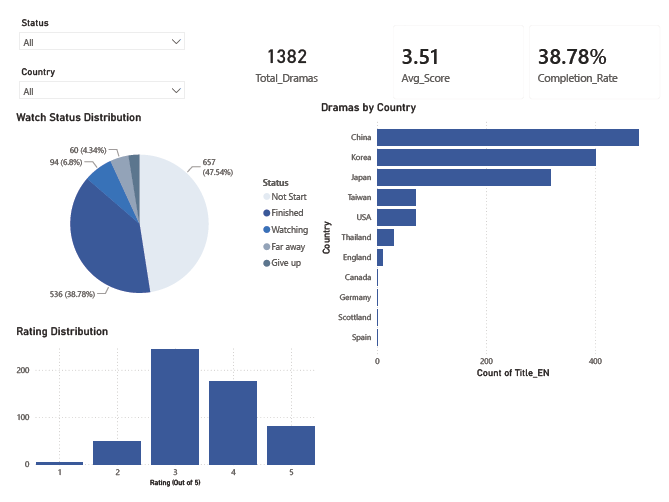

What the dashboard file says about the page in this screenshot:
{"tool":"powerbi","page":{"name":"Overview Dashboard","canvas":[1280,720],"ordinal":0},"visuals":[{"type":"cardVisual","fields":{"Data":["Drama.Avg_Score","Drama.Completion_Rate"]},"box":[557.8,0,437.7,145.9],"z":0},{"type":"card","fields":{"Values":["Drama.Total_Dramas"]},"box":[269.7,0,288.1,145.9],"z":1000},{"type":"slicer","fields":{"Values":["Drama.Status"]},"box":[0,0,269.7,86.8],"z":2000},{"type":"slicer","fields":{"Values":["Drama.Country"]},"box":[0,73.9,269.7,72],"z":3000},{"type":"pieChart","title":"Watch Status Distribution","fields":{"Category":["Drama.Status"],"Y":["CountNonNull(Drama.Title_EN)"]},"box":[0,146.2,461.2,323.8],"z":4000},{"type":"clusteredBarChart","title":"Dramas by Country","fields":{"Category":["Drama.Country"],"Y":["CountNonNull(Drama.Title_EN)"]},"box":[461.2,131.2,516.2,425],"z":5000},{"type":"clusteredColumnChart","title":"Rating Distribution","fields":{"Category":["Drama.Score /5"],"Y":["CountNonNull(Drama.Title_EN)"]},"box":[0,470,461.2,250],"z":6000}]}

Visuals, with their boxes on the page's 1280x720 design canvas (x1, y1, x2, y2). These are canvas units, not pixel positions in the 669x502 screenshot, which may show the page scaled, cropped or inside an application window:
cardVisual - Drama.Avg_Score x Drama.Completion_Rate: x1=558, y1=0, x2=996, y2=146
card - Drama.Total_Dramas: x1=270, y1=0, x2=558, y2=146
slicer - Drama.Status: x1=0, y1=0, x2=270, y2=87
slicer - Drama.Country: x1=0, y1=74, x2=270, y2=146
"Watch Status Distribution" pieChart: x1=0, y1=146, x2=461, y2=470
"Dramas by Country" clusteredBarChart: x1=461, y1=131, x2=977, y2=556
"Rating Distribution" clusteredColumnChart: x1=0, y1=470, x2=461, y2=720
